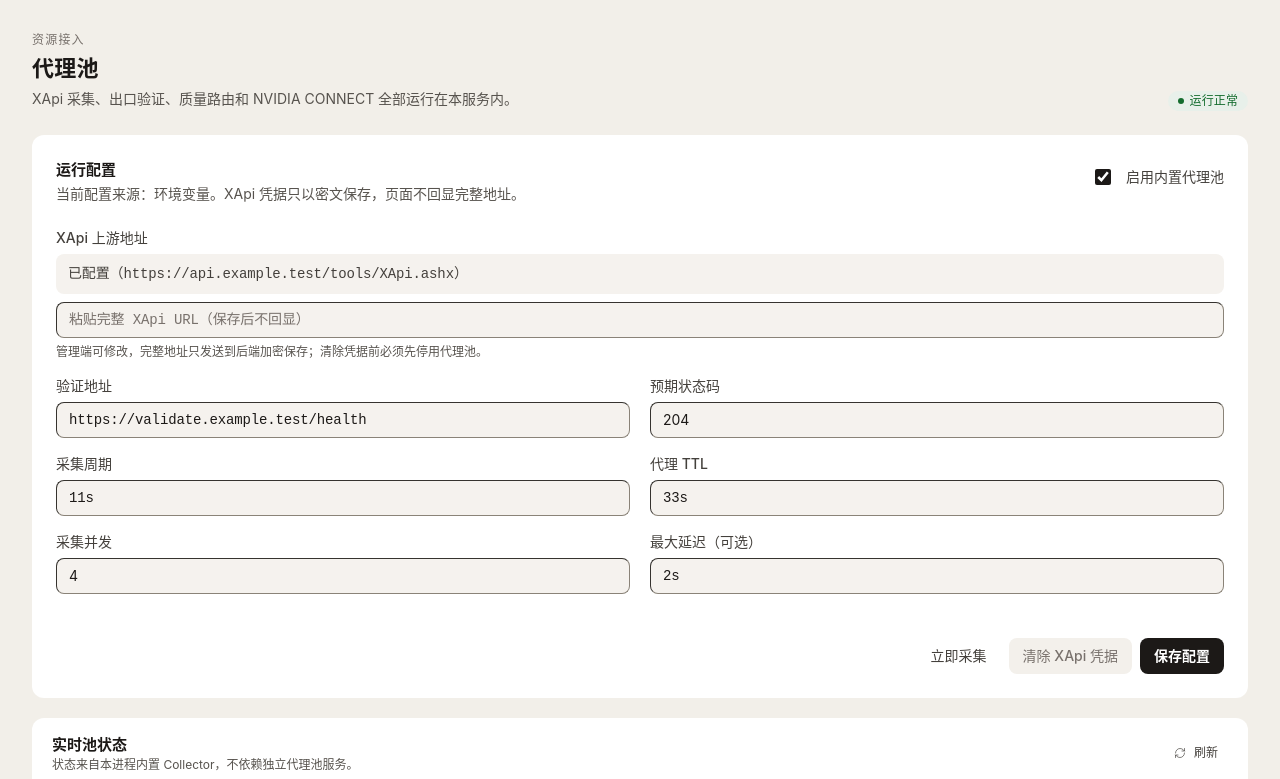
Test: ProxyPoolView › saves collector settings and does not send a fixed proxy credential
Replace the text in the field with test id "proxy-interval" with "10s" at (343, 498), box [56,480,630,516]
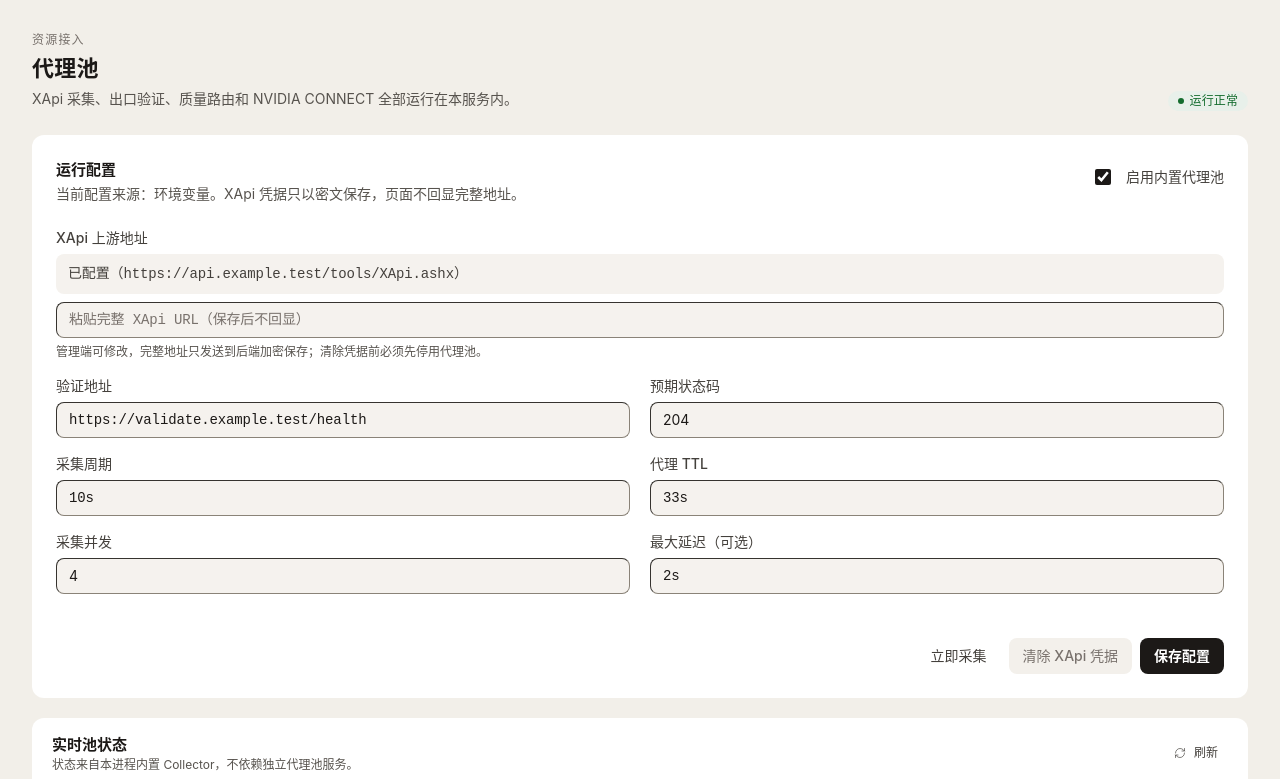
Replace the text in the field with test id "proxy-ttl" with "90s" at (937, 498), box [650,480,1224,516]
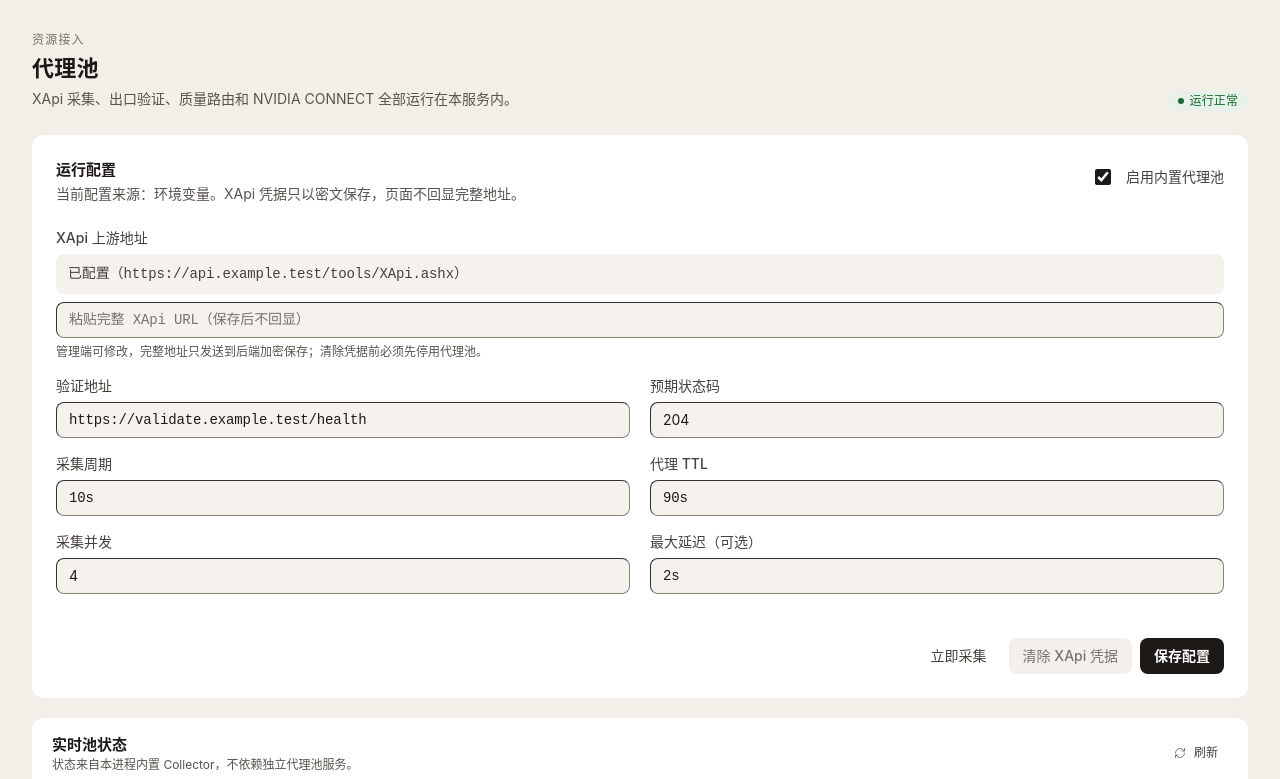
Type "https://new.example.test/tools/XApi.ashx?apikey=fixture&sign=fixture" into the password field with test id "proxy-upstream-url" at (640, 320), box [56,302,1224,338]
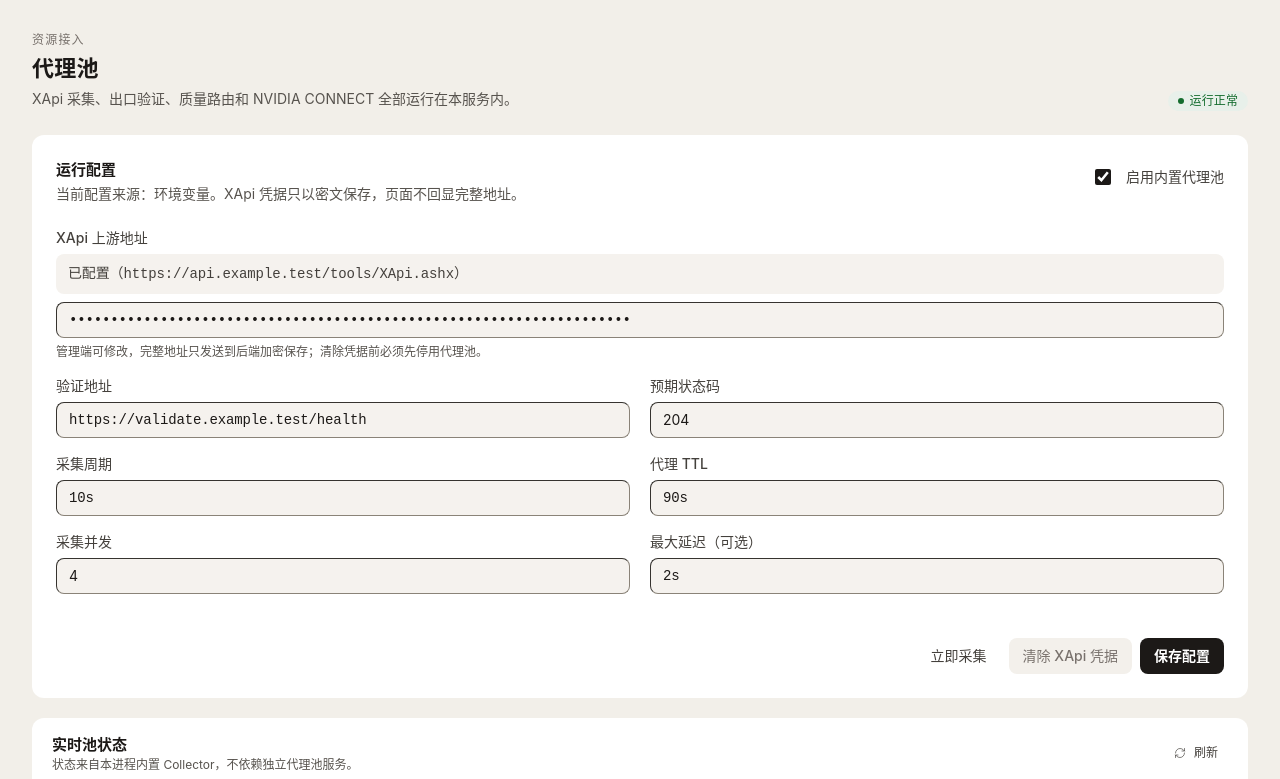
Submit the form
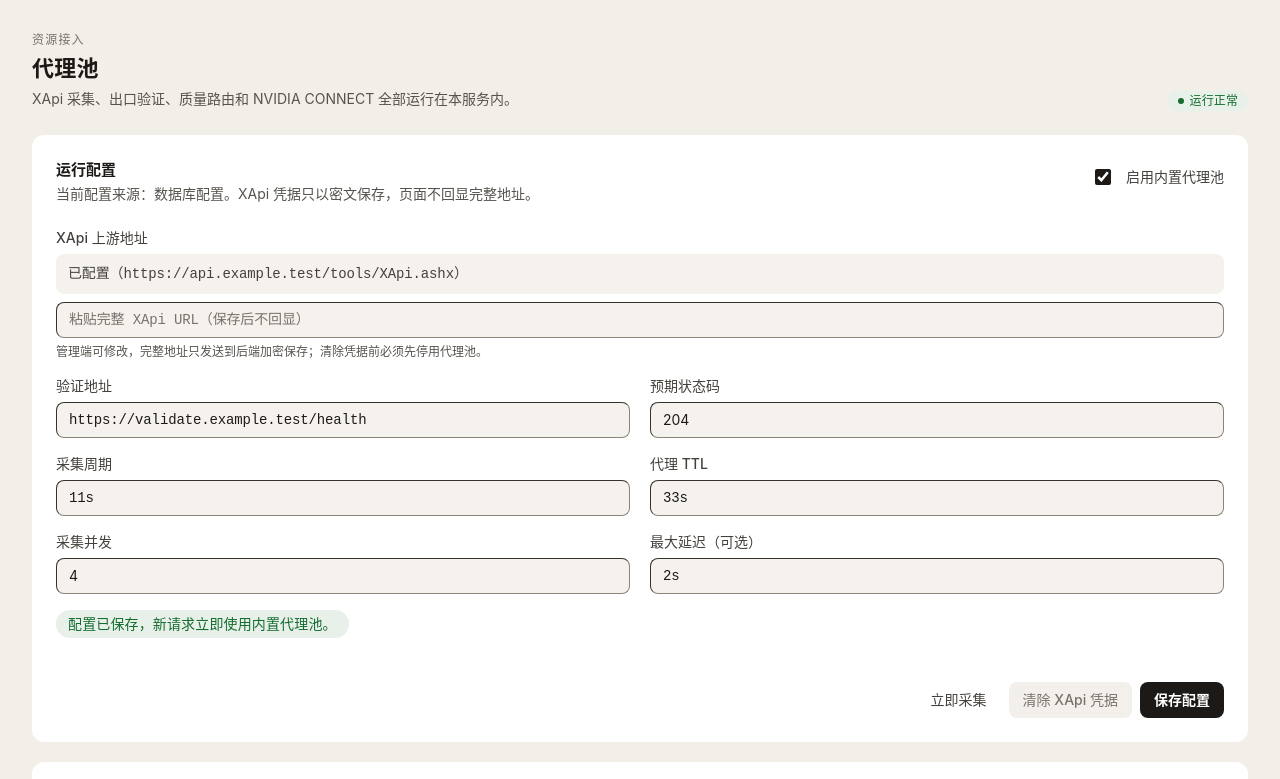
expect the password field with test id "proxy-upstream-url" is empty: met, box [56,302,1224,338]
expect the text "配置已保存" is shown: met, box [68,615,337,632]
